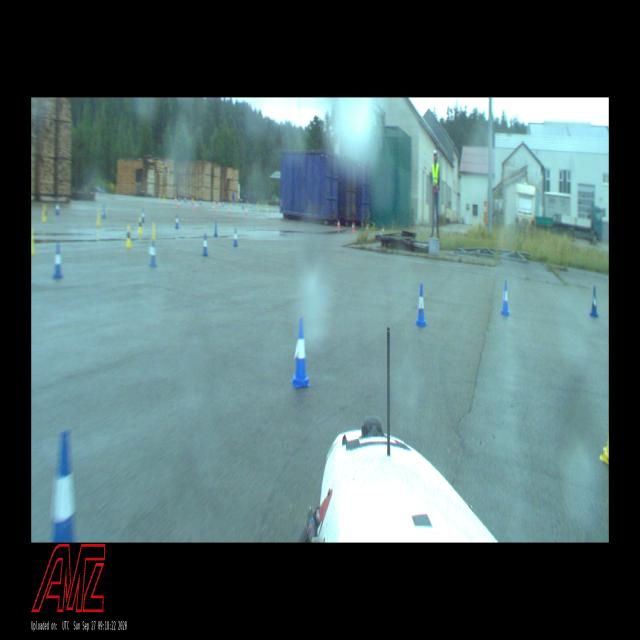blue_cone: (50, 434, 76, 540), (290, 318, 311, 388), (415, 284, 427, 327), (499, 281, 511, 316), (52, 245, 63, 279), (590, 287, 598, 317), (149, 242, 157, 267), (202, 234, 208, 256), (233, 229, 238, 246), (175, 215, 179, 228), (214, 223, 217, 237), (56, 204, 60, 214), (142, 210, 144, 222)
orange_cone: (352, 223, 355, 231), (337, 221, 340, 228)
yellow_cone: (599, 433, 609, 465), (125, 226, 132, 248), (31, 229, 35, 254), (41, 205, 47, 221), (152, 223, 156, 240), (96, 212, 100, 226), (139, 218, 142, 233)
